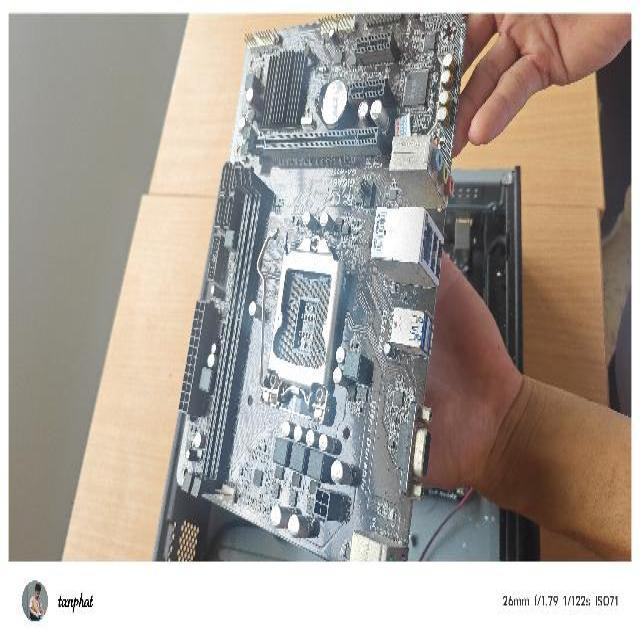Mainboard: (172, 16, 466, 564)
